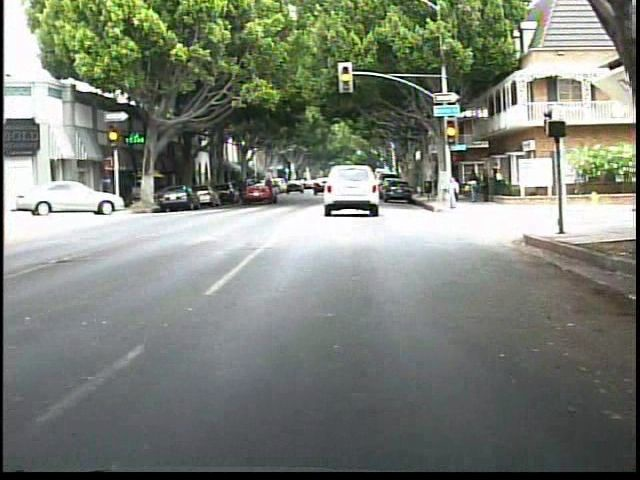person: (442, 173, 464, 212), (466, 170, 482, 205), (489, 160, 504, 196), (479, 167, 492, 204)
